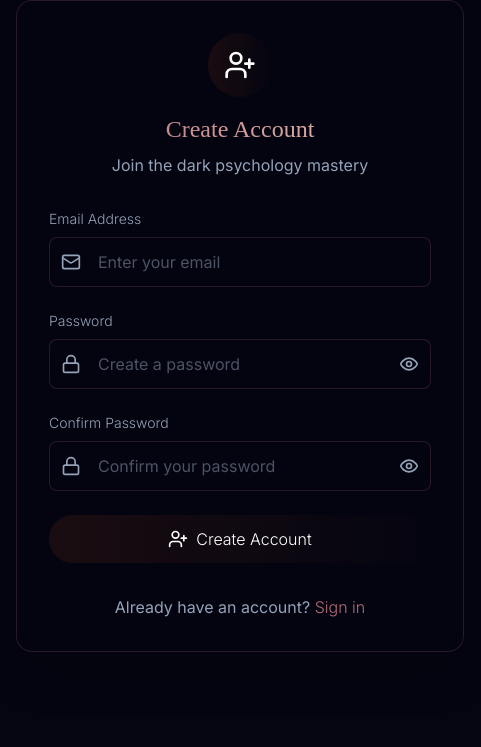
it: RegisterForm › displays error message on 409 conflict
The width and height of the screenshot is (481, 747).
Step 1. Type "existing@example.com" into the field with placeholder "Enter your email" → (240,262), box [49, 237, 431, 287]
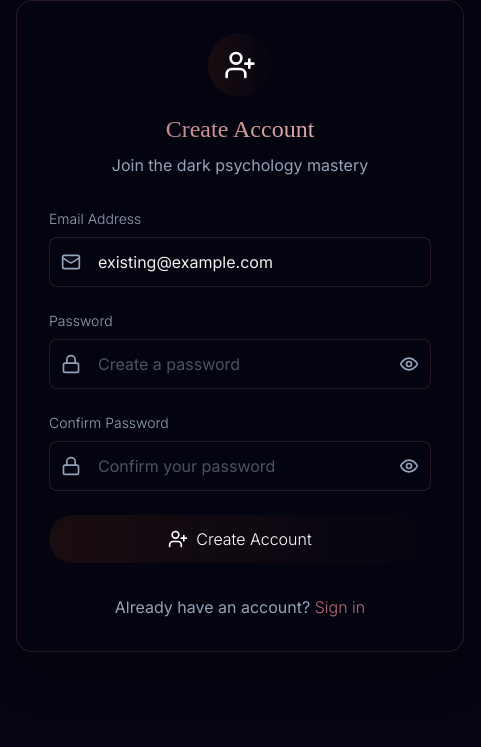
Step 2. Type "password123" into the password field with placeholder "Create a password" → (240,364), box [49, 339, 431, 389]
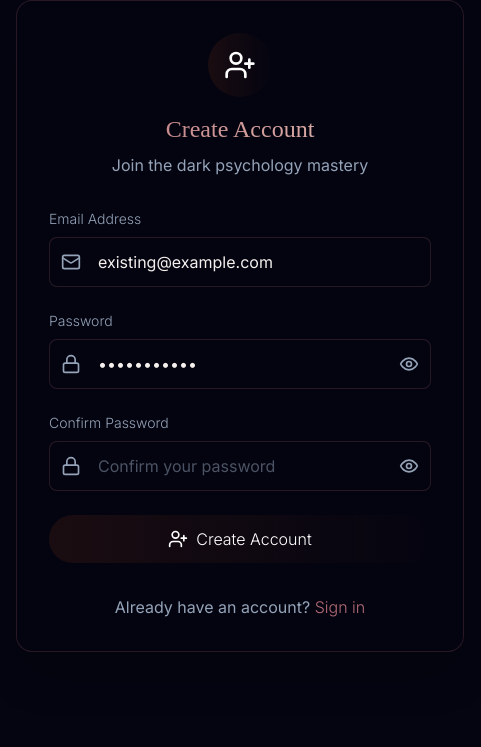
Step 3. Type "password123" into the password field with placeholder "Confirm your password" → (240,466), box [49, 441, 431, 491]
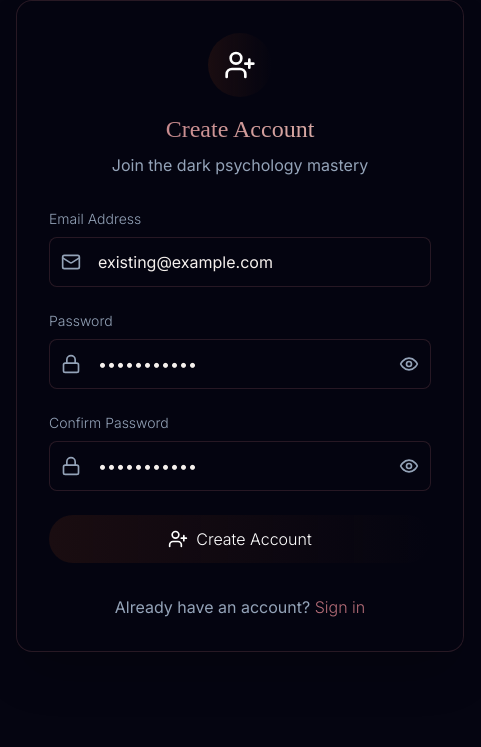
Step 4. Click the button "Create Account" → (240,539), box [49, 515, 431, 563]
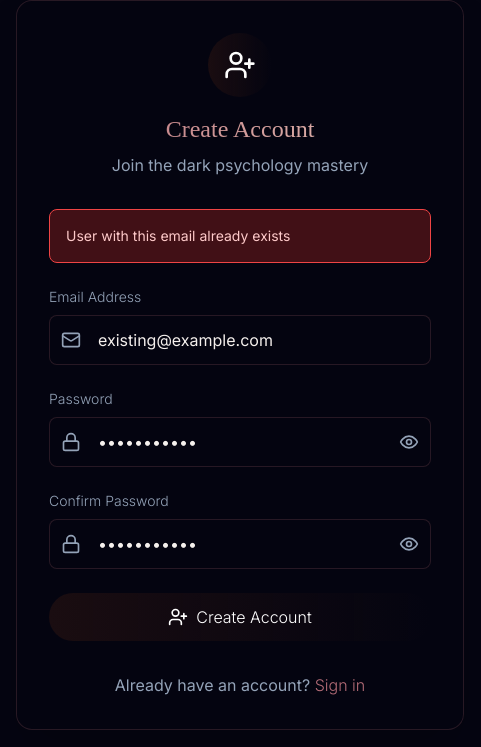
Result: the text "User with this email already exists" is shown at [49, 209, 431, 263]
